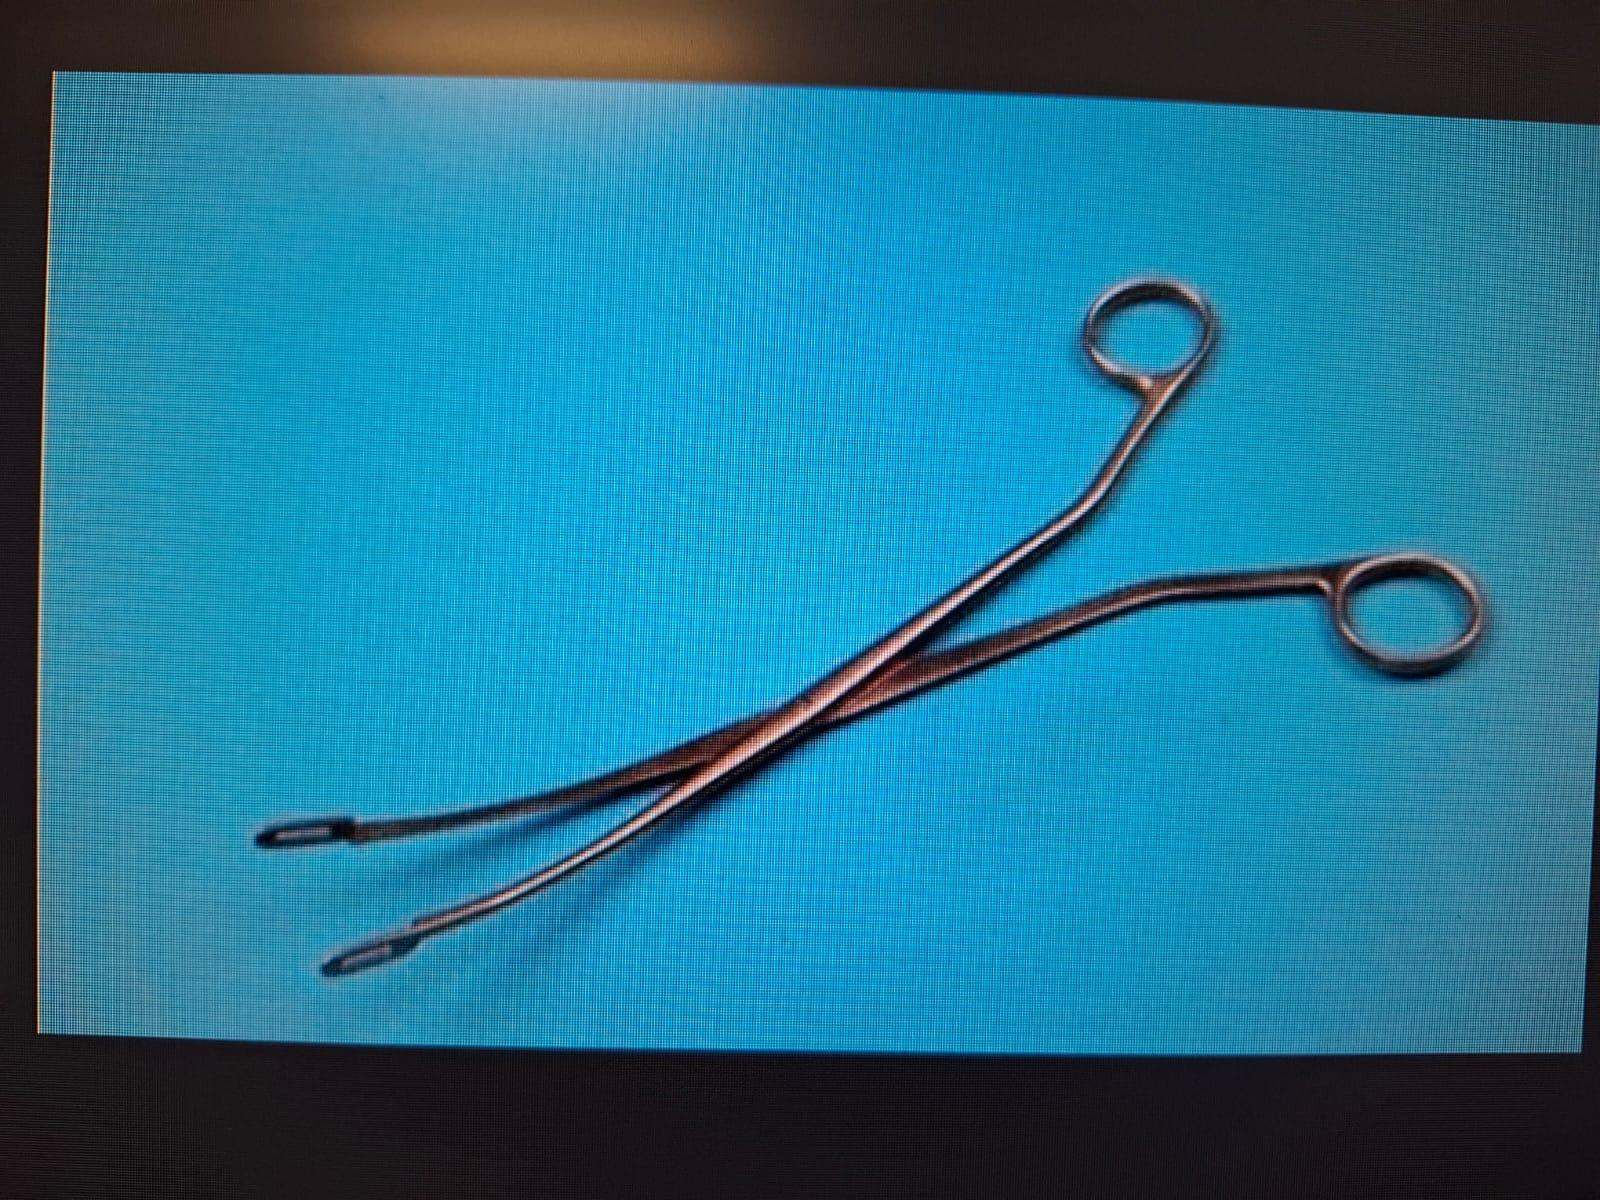Desjardin Forceps: (246, 262, 1502, 998)
